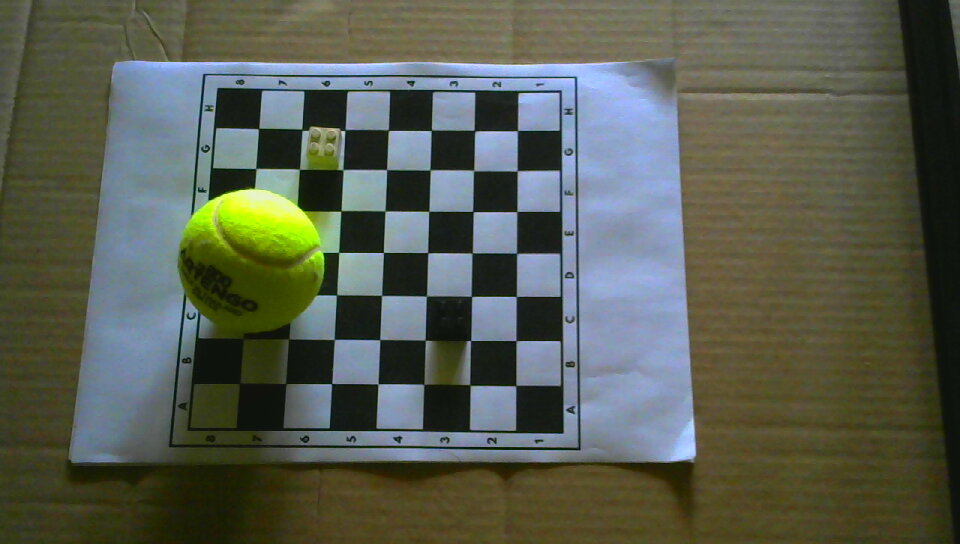bp: (433, 297, 471, 337)
wp: (305, 126, 342, 169)
